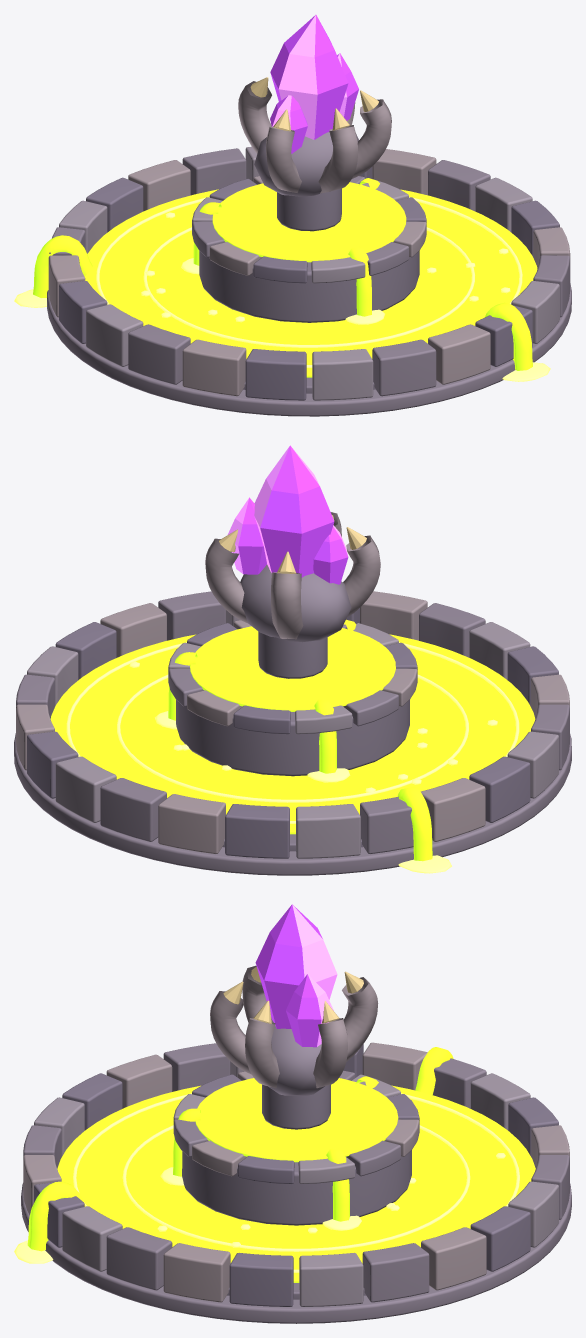
Rendered from Slime_Fountain.glb.
3 views of the same model, one above another, from view 1: azimuth 30°, elevation 25°; view 2: azimuth 150°, elevation 25°; view 3: azimuth 270°, elevation 25° (orthographic). The views are drawn at different scales.
Visible parts, largest first — view 1: Slime_Fountain__Stonework, Slime_Fountain__Glow, Slime_Fountain__Claw, Slime_Fountain__Crystal; view 2: Slime_Fountain__Stonework, Slime_Fountain__Glow, Slime_Fountain__Claw, Slime_Fountain__Crystal; view 3: Slime_Fountain__Stonework, Slime_Fountain__Glow, Slime_Fountain__Claw, Slime_Fountain__Crystal.
Boxes of the visible parts, box(x1,y1,x2,y2) form: Slime_Fountain__Stonework: box(47, 146, 571, 416); Slime_Fountain__Glow: box(14, 178, 550, 381); Slime_Fountain__Claw: box(238, 77, 391, 231); Slime_Fountain__Crystal: box(270, 15, 358, 153); Slime_Fountain__Stonework: box(14, 591, 571, 875); Slime_Fountain__Glow: box(50, 619, 535, 873); Slime_Fountain__Claw: box(205, 512, 380, 678); Slime_Fountain__Crystal: box(227, 445, 348, 584); Slime_Fountain__Stonework: box(21, 1042, 571, 1323); Slime_Fountain__Glow: box(14, 1047, 535, 1282); Slime_Fountain__Claw: box(210, 965, 378, 1129); Slime_Fountain__Crystal: box(255, 904, 337, 1047).
Bounding box in the file's own units: 14.4 × 8.85 × 14.59.
